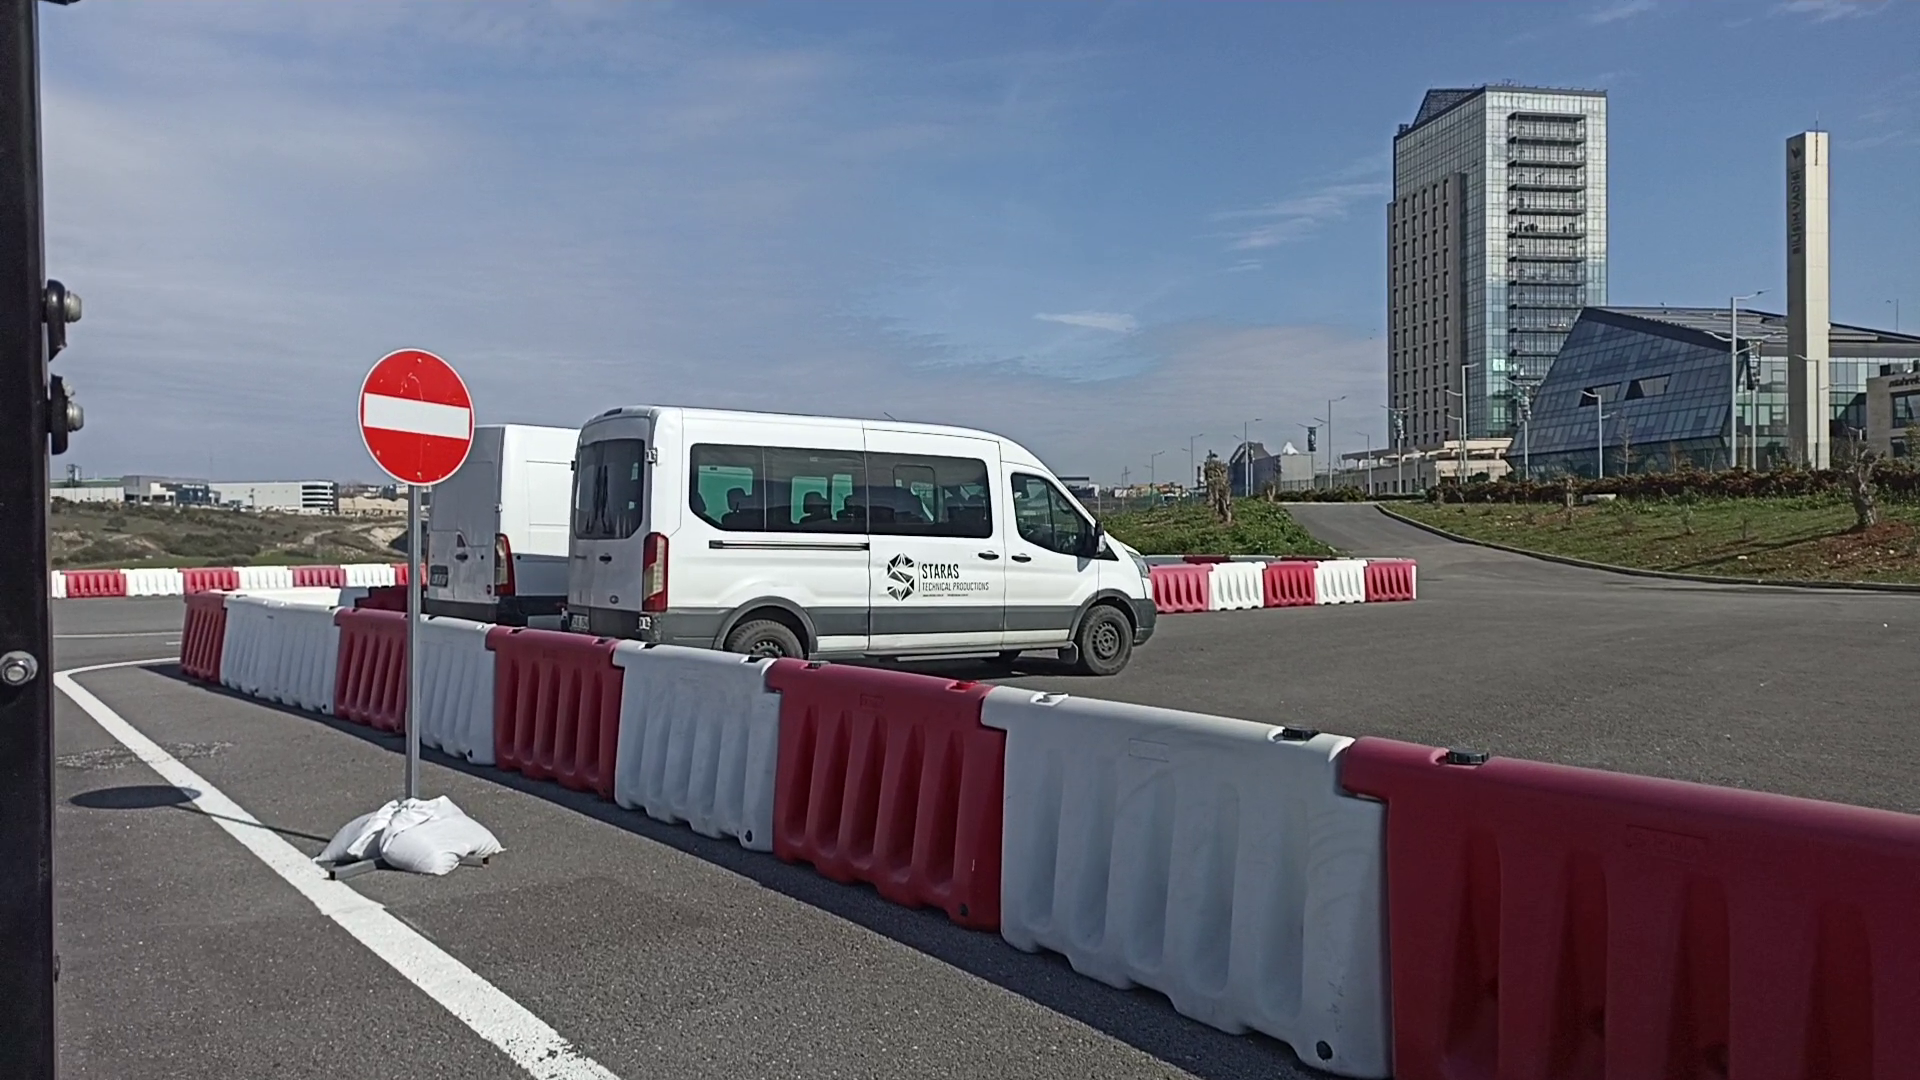noentryway: (357, 347, 477, 491)
